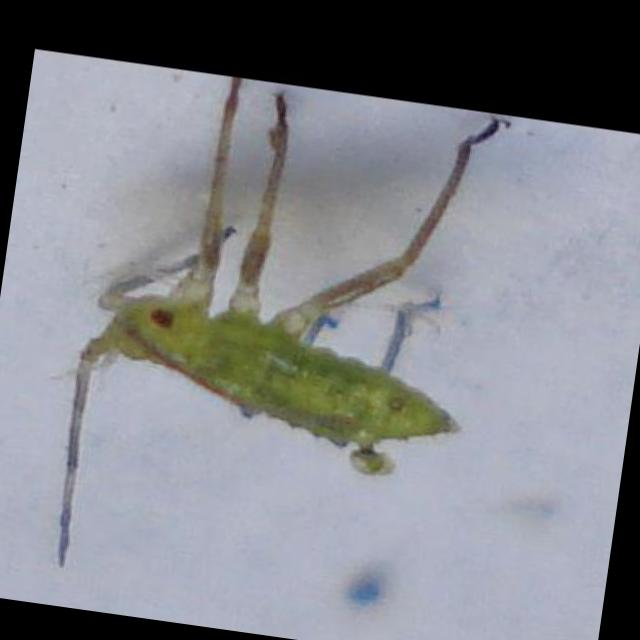Aphid: (13, 71, 530, 611)
